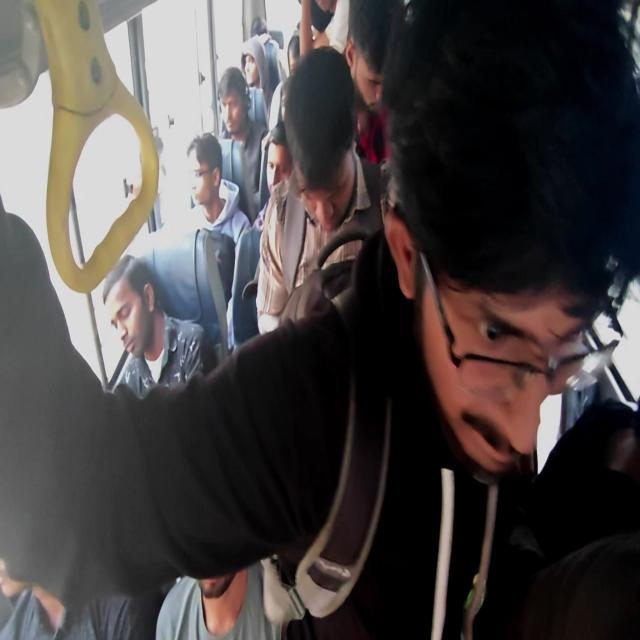person: (415, 242, 587, 477), (285, 51, 360, 240), (0, 557, 71, 637), (346, 1, 402, 95), (110, 275, 151, 361), (300, 0, 348, 54), (266, 123, 294, 197), (219, 72, 251, 136), (188, 143, 218, 206), (197, 569, 237, 599), (0, 560, 26, 599), (242, 46, 261, 88), (288, 32, 300, 73), (251, 16, 268, 39), (280, 82, 287, 119), (295, 21, 300, 32)
